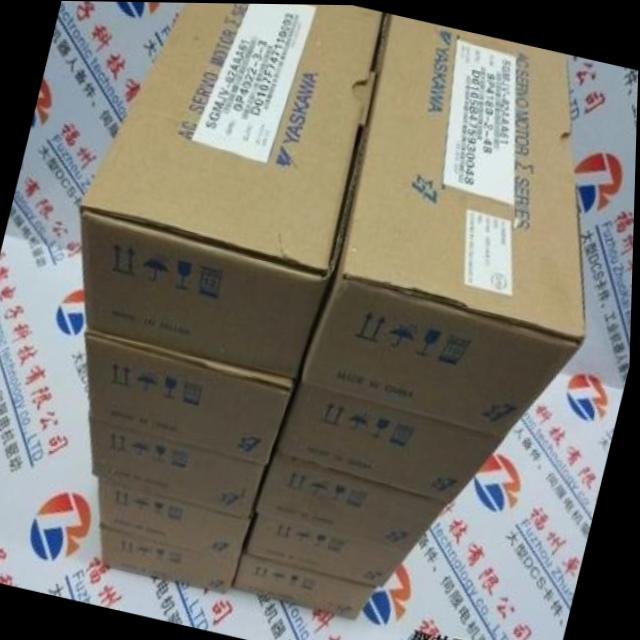box: (306, 13, 588, 438), (80, 2, 385, 380), (277, 357, 506, 503), (88, 328, 297, 465), (259, 449, 450, 549), (92, 416, 267, 519), (100, 475, 252, 558), (250, 512, 412, 586), (235, 552, 379, 618), (104, 526, 242, 593)
